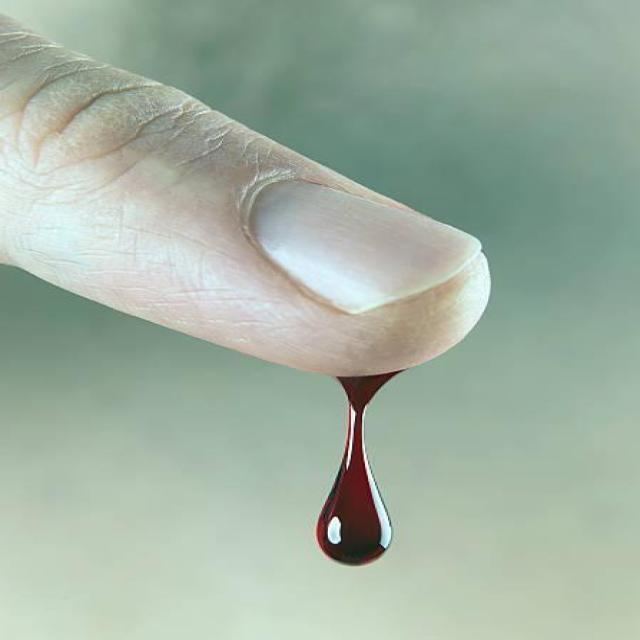flood: (312, 356, 412, 566)
